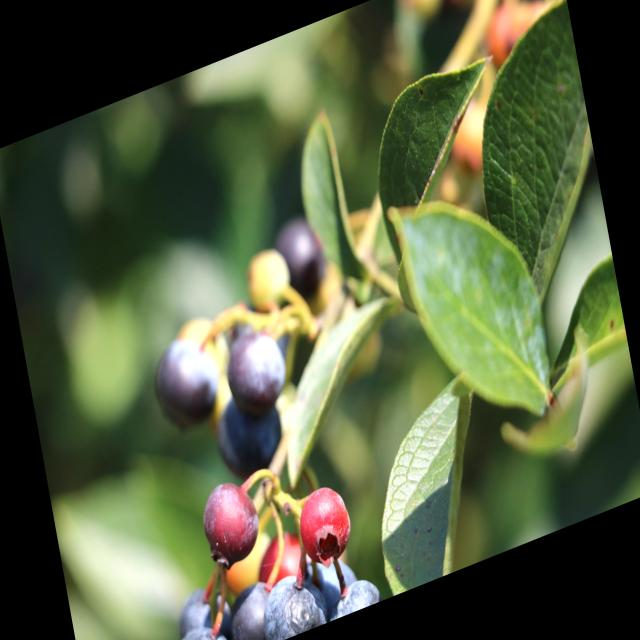blueberry: (144, 322, 229, 446), (209, 375, 293, 494), (216, 315, 296, 434), (262, 202, 336, 314), (250, 554, 331, 640), (293, 535, 367, 624), (168, 567, 247, 640), (219, 567, 287, 640), (322, 568, 386, 622), (160, 609, 239, 640)
blueberry-halfripe: (196, 472, 266, 581), (291, 474, 359, 572), (250, 526, 303, 592)
blueberry-unripe: (242, 238, 296, 316)
